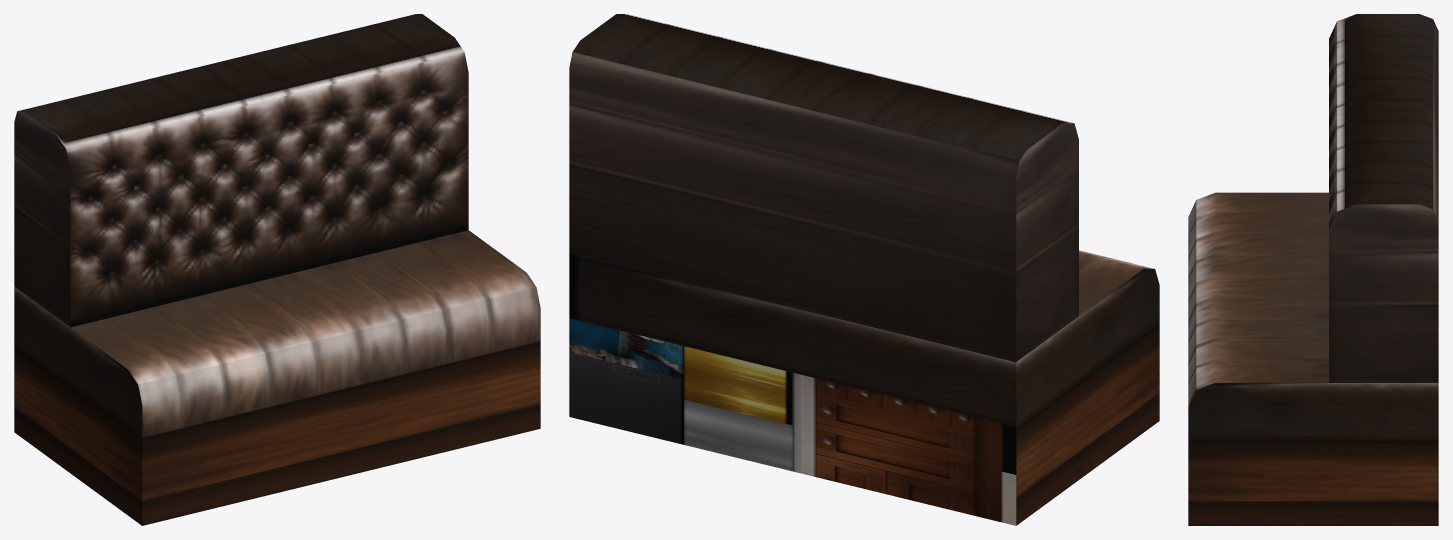
The model's file is booth_seat.fbx.
3 renders of one model, left to right at view 1: azimuth 30°, elevation 25°; view 2: azimuth 150°, elevation 25°; view 3: azimuth 270°, elevation 25°, orthographic. The views are drawn at different scales.
Parts seen in each view (by area): view 1: booth_seat; view 2: booth_seat; view 3: booth_seat.
Part boxes in pixels (bbox=[...]): booth_seat: bbox=[14, 14, 540, 525]; booth_seat: bbox=[569, 14, 1159, 525]; booth_seat: bbox=[1188, 14, 1438, 525].
Size of the model in its own units: 160 by 126 by 89.
